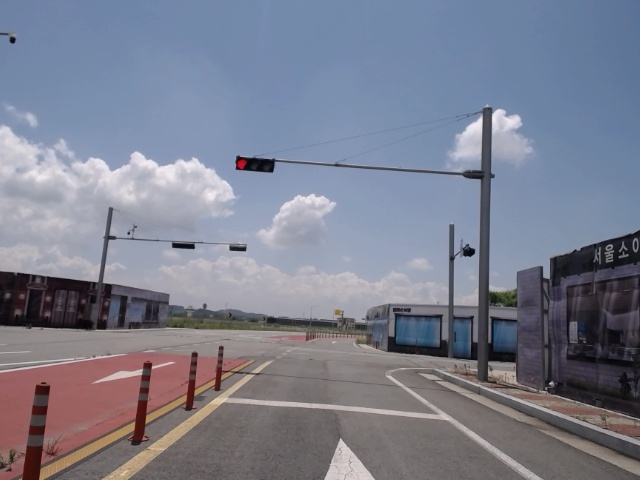red_3: (235, 155, 277, 173)
